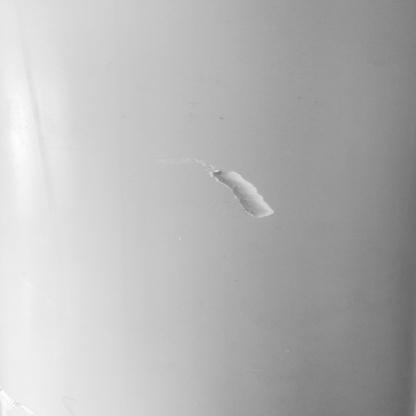sunshang: (190, 152, 280, 225)
